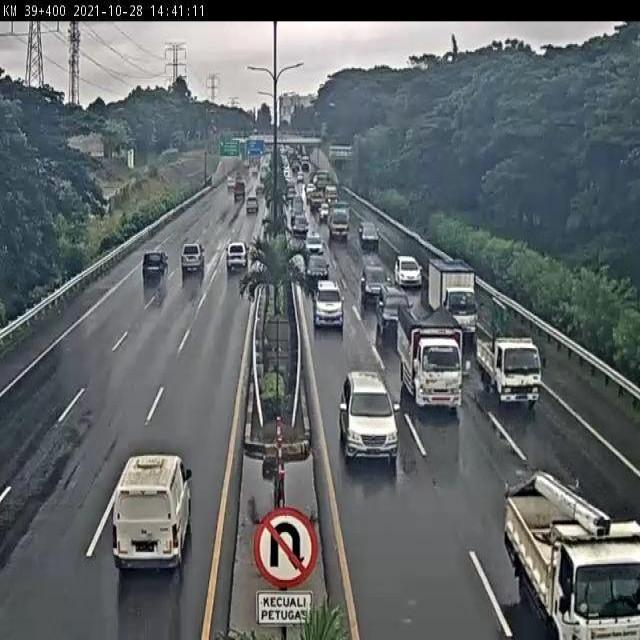car: (111, 453, 193, 571), (339, 371, 400, 465), (374, 279, 410, 329), (312, 276, 344, 325), (359, 267, 389, 304), (392, 253, 423, 288)
mid truck: (506, 472, 640, 640), (398, 310, 464, 414), (475, 328, 542, 407), (424, 256, 473, 332), (140, 250, 171, 286), (179, 241, 207, 275), (223, 240, 249, 273)
